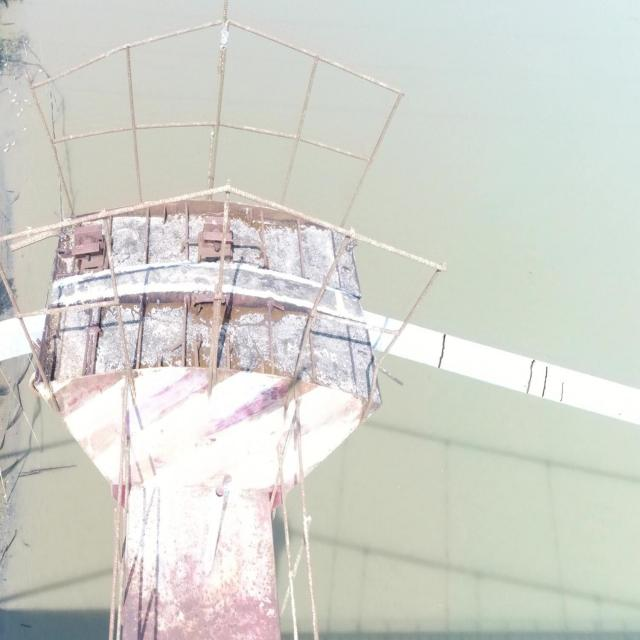crack: (526, 359, 536, 394), (438, 333, 446, 369), (542, 366, 549, 397), (560, 382, 564, 402)
